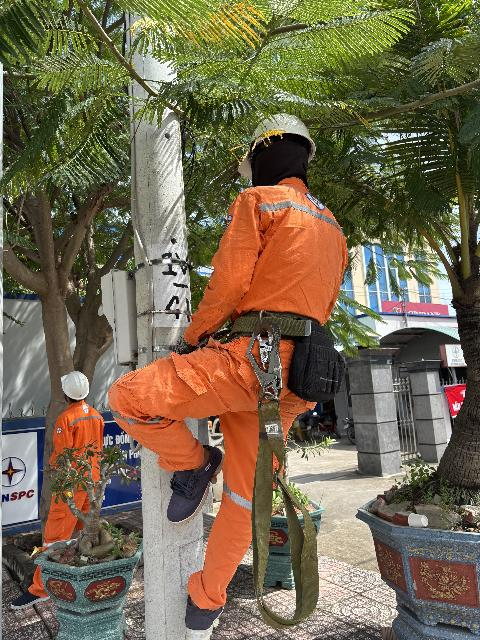harness: (224, 311, 357, 364)
helmet: (230, 108, 319, 184), (53, 363, 100, 405)
shoes: (169, 438, 226, 526), (180, 575, 232, 640), (10, 579, 60, 623)
